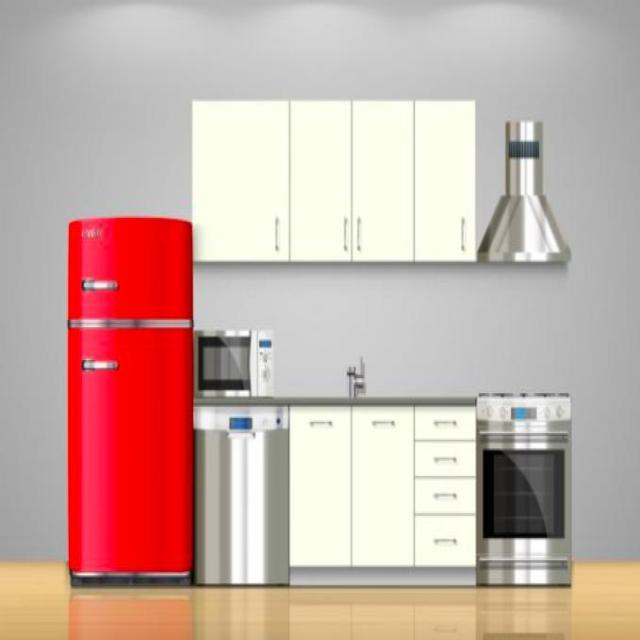dishwasher: (192, 404, 290, 582)
